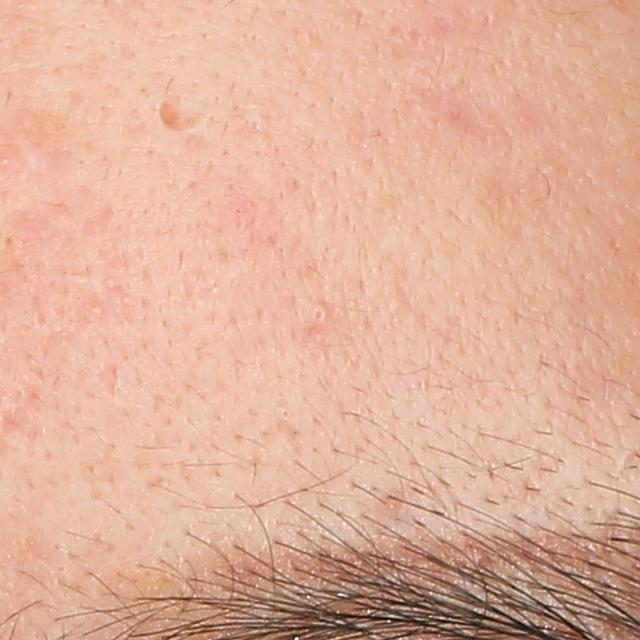atrophic_scar: (158, 84, 214, 134)
comedo: (309, 304, 334, 329)
